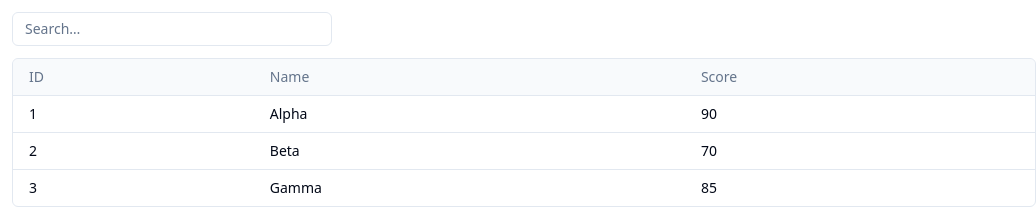
Test: DataTable › filters rows when searchable
The width and height of the screenshot is (1036, 224).
Type "alpha" into the field with placeholder "Search…" at (172, 29), box 12,12 -> 332,46
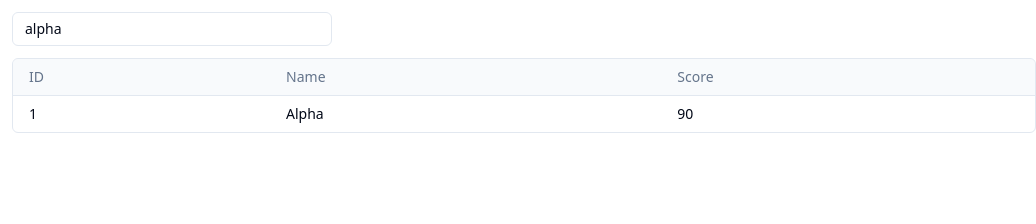
Expected: the text "Alpha" is shown, 270,96 -> 661,132
Now the text "Beta" is gone
